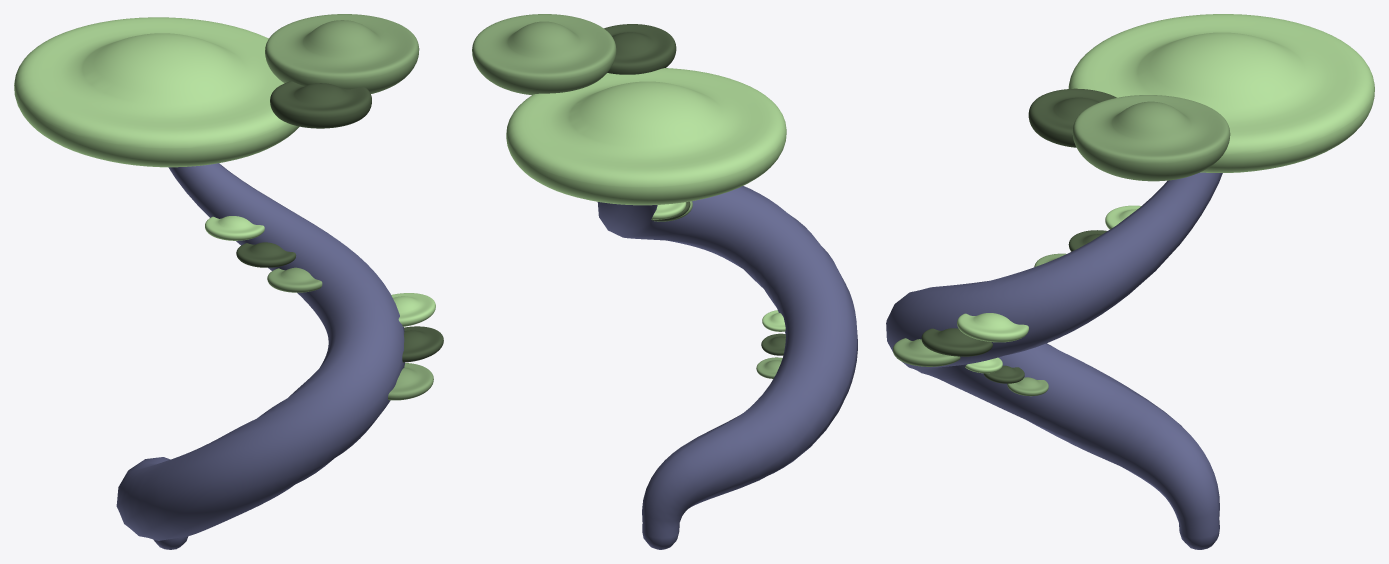
Rendered from shroom_5.glb.
3 views of the same model, side by side, from view 1: azimuth 30°, elevation 25°; view 2: azimuth 150°, elevation 25°; view 3: azimuth 270°, elevation 25° (orthographic). The views are drawn at different scales.
Visible parts, largest first — view 1: s.0092; view 2: s.0092; view 3: s.0092.
Part boxes in pixels (bbox=[...]): s.0092: bbox=[14, 14, 443, 549]; s.0092: bbox=[472, 14, 857, 549]; s.0092: bbox=[886, 14, 1374, 549].
Bounding box in the file's own units: 1.26 × 1.78 × 1.53.
